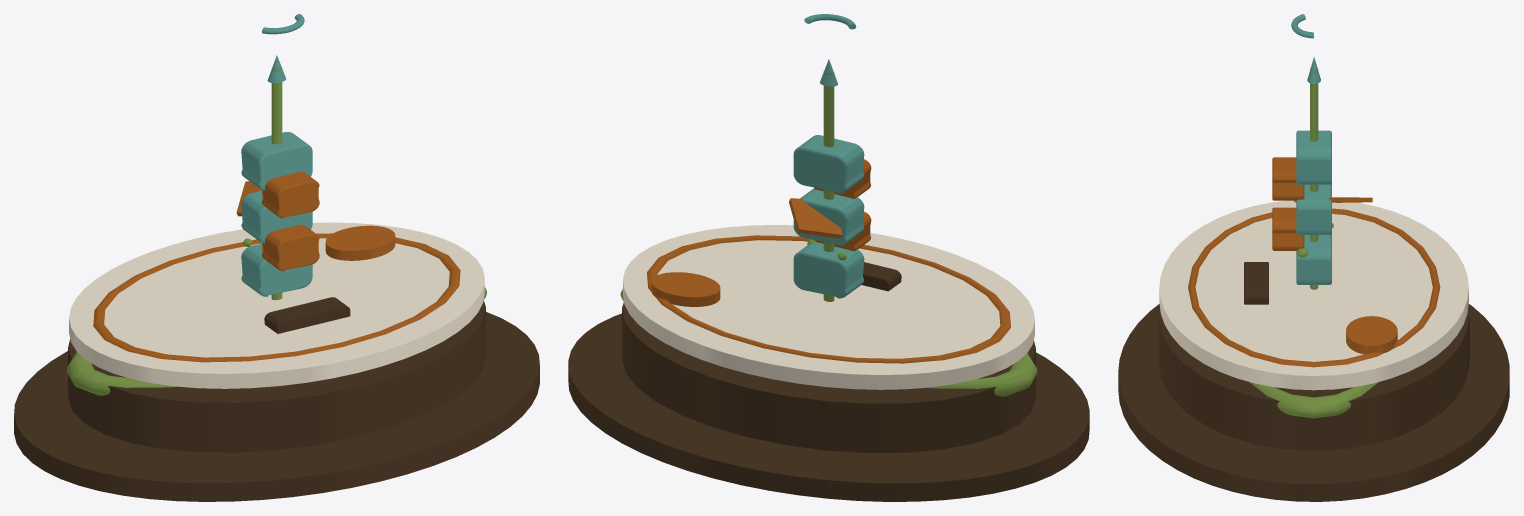
File: 0321_揭秘食物图鉴_三股鱼叉.glb
3 views of the same model, side by side, from view 1: azimuth 30°, elevation 25°; view 2: azimuth 150°, elevation 25°; view 3: azimuth 270°, elevation 25° (orthographic). The views are drawn at different scales.
Parts seen in each view (by area): view 1: card_0321; view 2: card_0321; view 3: card_0321.
Part boxes in pixels (box(x1,y1,x2,y2)): card_0321: box(14, 14, 539, 501); card_0321: box(568, 14, 1089, 501); card_0321: box(1118, 14, 1509, 501).
Size of the model in its own units: 1.31 by 1 by 0.9664.
